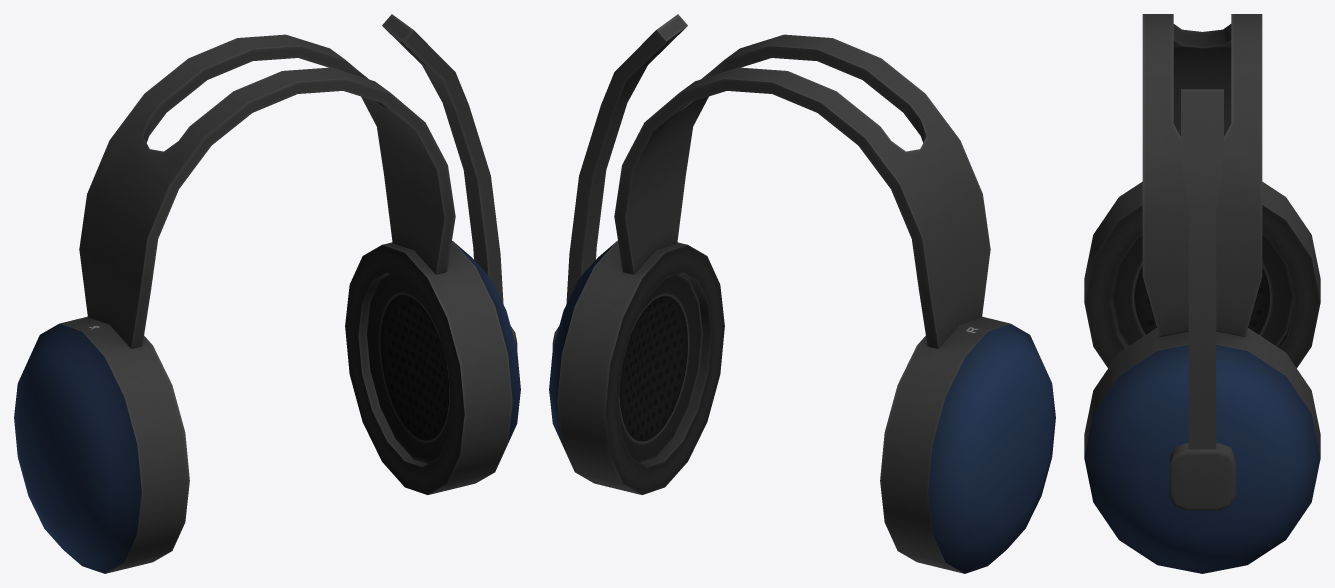
Rendered from headset.fbx.
3 renders of one model, left to right at view 1: azimuth 30°, elevation 25°; view 2: azimuth 150°, elevation 25°; view 3: azimuth 270°, elevation 25°, orthographic.
Parts seen in each view (by area): view 1: headset_phone, headset_mic; view 2: headset_phone, headset_mic; view 3: headset_phone, headset_mic.
Boxes of the visible parts, x1,y1,x2,y2 form: headset_phone: [14, 34, 520, 573]; headset_mic: [382, 14, 517, 349]; headset_phone: [549, 34, 1055, 573]; headset_mic: [552, 14, 687, 349]; headset_phone: [1084, 14, 1320, 573]; headset_mic: [1169, 89, 1235, 510].
Bounding box in the file's own units: 0.2579 × 0.2527 × 0.1176.
